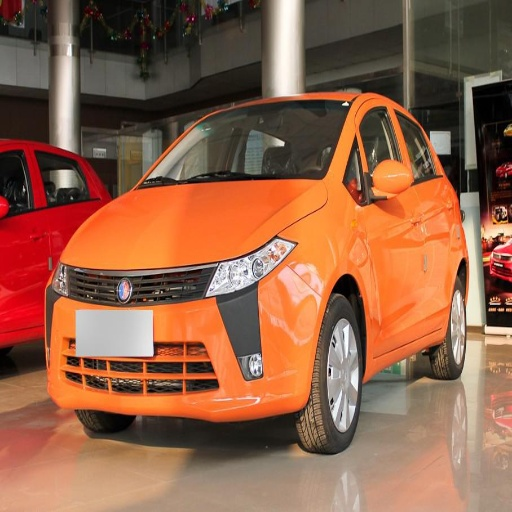front_bumper: (46, 261, 326, 421)
front_glass: (139, 104, 350, 187)
front_left_door: (355, 102, 429, 354)
